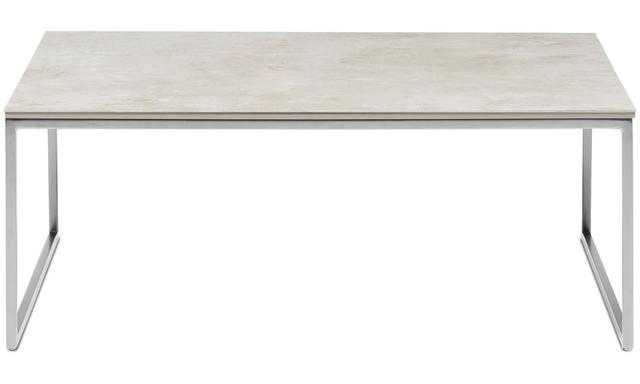obstacle: (5, 32, 634, 349)
